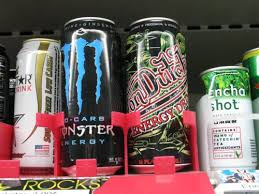can: (55, 14, 126, 177), (127, 10, 191, 181), (204, 62, 257, 191), (14, 27, 52, 184)
